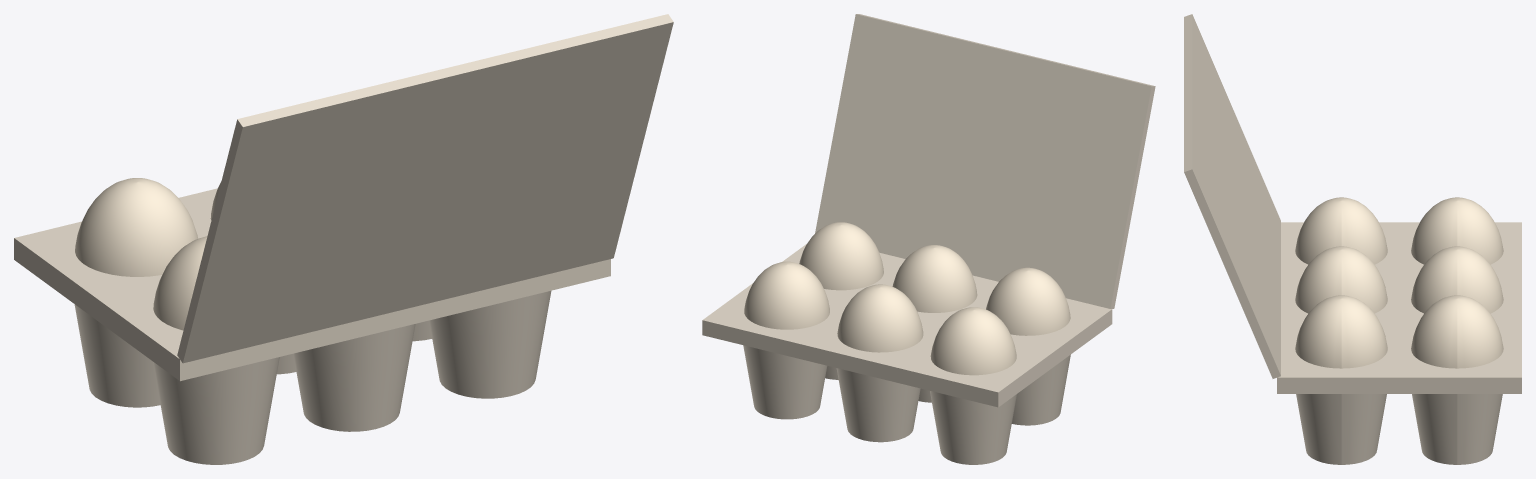
File: eggcarton.glb
The picture shows the model from 3 angles, left to right: view 1: azimuth 30°, elevation 25°; view 2: azimuth 150°, elevation 25°; view 3: azimuth 270°, elevation 25°; orthographic projection. The views are drawn at different scales.
Parts seen in each view (by area): view 1: ฝากล่อง, ถาดกล่อง, หลุมรองไข่ 2, หลุมรองไข่ 6, หลุมรองไข่ 4, ไข่ 1, หลุมรองไข่ 1, ไข่ 2; view 2: ฝากล่อง, ถาดกล่อง, หลุมรองไข่ 1, ไข่ 3, ไข่ 5, หลุมรองไข่ 5, ไข่ 1, หลุมรองไข่ 3, ไข่ 6, ไข่ 2, ไข่ 4, หลุมรองไข่ 2; view 3: ถาดกล่อง, ฝากล่อง, หลุมรองไข่ 5, หลุมรองไข่ 6, ไข่ 5, ไข่ 6, ไข่ 3, ไข่ 2, ไข่ 4, ไข่ 1.
Part boxes in pixels (bbox=[...]): ฝากล่อง: bbox=[177, 14, 673, 363]; ถาดกล่อง: bbox=[14, 188, 610, 381]; หลุมรองไข่ 2: bbox=[153, 357, 279, 464]; หลุมรองไข่ 6: bbox=[429, 291, 551, 398]; หลุมรองไข่ 4: bbox=[293, 324, 415, 431]; ไข่ 1: bbox=[75, 178, 197, 276]; หลุมรองไข่ 1: bbox=[74, 304, 160, 407]; ไข่ 2: bbox=[153, 236, 207, 330]; ฝากล่อง: bbox=[815, 14, 1155, 308]; ถาดกล่อง: bbox=[702, 244, 1112, 407]; หลุมรองไข่ 1: bbox=[930, 391, 1016, 464]; ไข่ 3: bbox=[837, 284, 923, 352]; ไข่ 5: bbox=[744, 261, 829, 329]; หลุมรองไข่ 5: bbox=[743, 345, 827, 419]; ไข่ 1: bbox=[930, 307, 1016, 375]; หลุมรองไข่ 3: bbox=[836, 368, 920, 442]; ไข่ 6: bbox=[799, 222, 883, 290]; ไข่ 2: bbox=[986, 267, 1070, 335]; ไข่ 4: bbox=[892, 245, 977, 312]; หลุมรองไข่ 2: bbox=[1011, 354, 1070, 425]; ถาดกล่อง: bbox=[1277, 222, 1521, 393]; ฝากล่อง: bbox=[1184, 14, 1280, 378]; หลุมรองไข่ 5: bbox=[1412, 394, 1502, 464]; หลุมรองไข่ 6: bbox=[1296, 394, 1386, 464]; ไข่ 5: bbox=[1411, 295, 1503, 368]; ไข่ 6: bbox=[1295, 295, 1387, 368]; ไข่ 3: bbox=[1411, 246, 1503, 313]; ไข่ 2: bbox=[1295, 197, 1387, 264]; ไข่ 4: bbox=[1295, 246, 1387, 313]; ไข่ 1: bbox=[1411, 197, 1503, 264].
Size of the model in its own units: 0.165 by 0.1532 by 0.1517.
